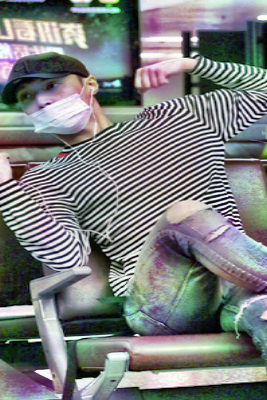mask_weared_incorrect: (17, 77, 88, 133)
